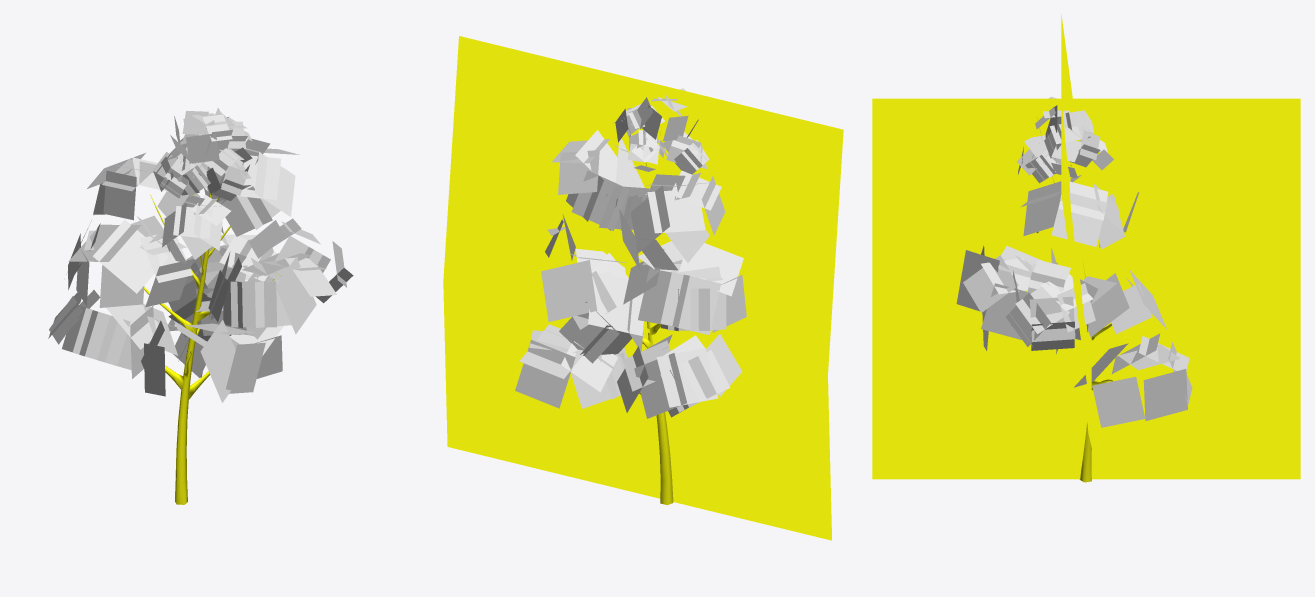
The model's file is Foliage_Trees_Tree_2_Tree2_MidBlend.glb.
3 renders of one model, left to right at view 1: azimuth 30°, elevation 25°; view 2: azimuth 150°, elevation 25°; view 3: azimuth 270°, elevation 25°, orthographic. The views are drawn at different scales.
Visible parts, largest first — view 1: BirchTreeLow; view 2: BirchTreeLow; view 3: BirchTreeLow.
Boxes of the visible parts, box(x1,y1,x2,y2) form: BirchTreeLow: box(48, 108, 353, 504); BirchTreeLow: box(443, 36, 843, 540); BirchTreeLow: box(872, 14, 1300, 482).
Size of the model in its own units: 8.08 by 8.1 by 8.08.
3 materials, 2 textured.
